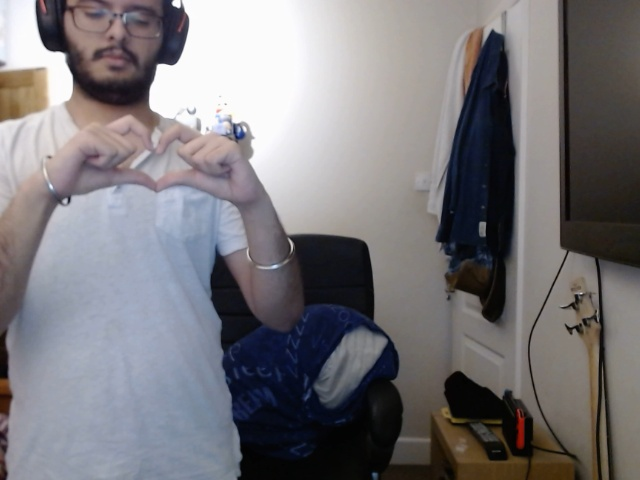Heart: (47, 119, 255, 203)
